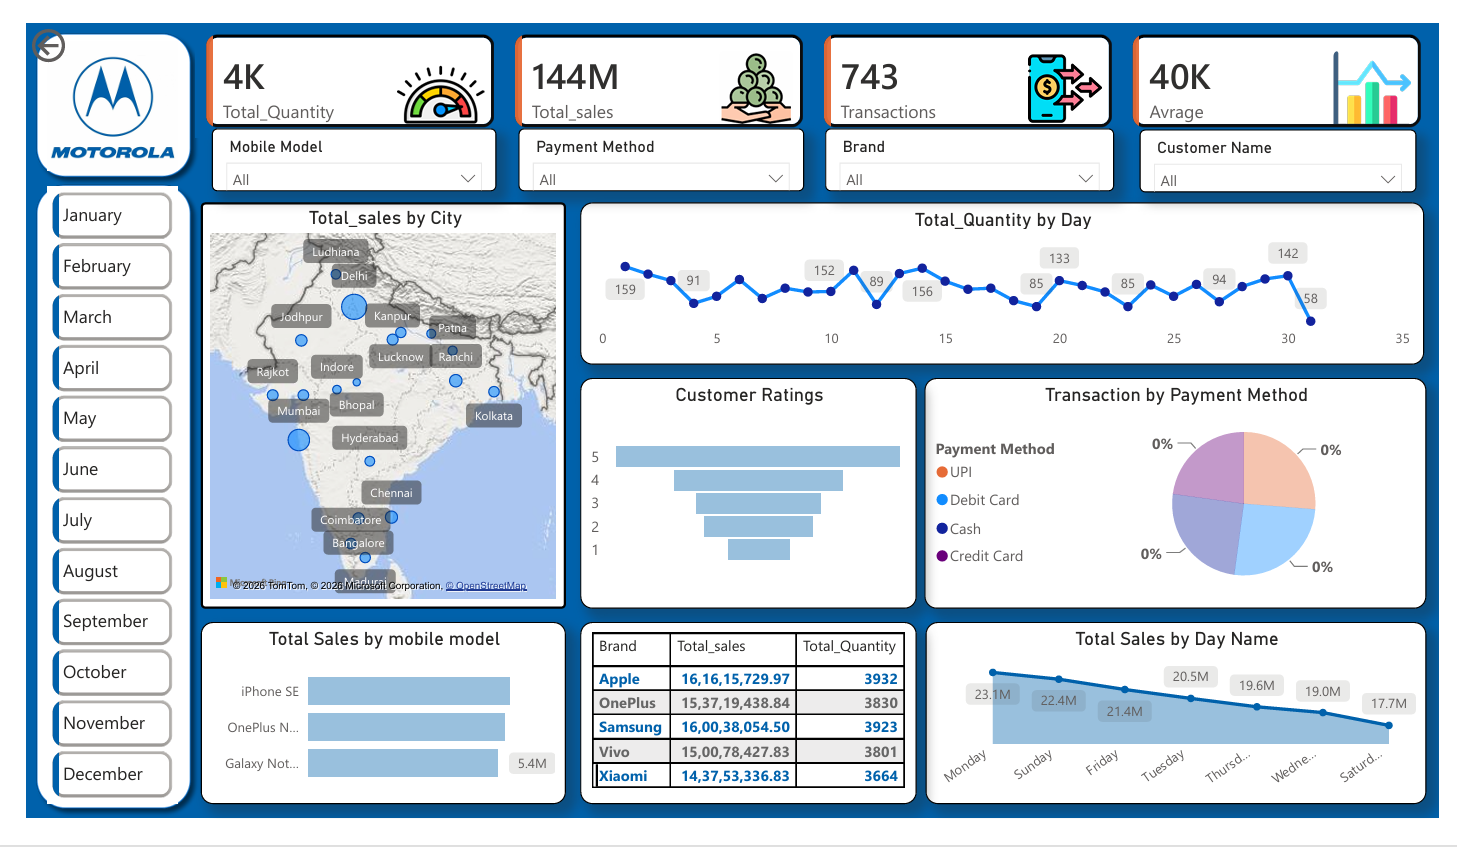

This screenshot's page, from the dashboard's own definition file:
{"tool":"powerbi","page":{"name":"Page 1","canvas":[1280,720],"ordinal":0},"visuals":[{"type":"shape","box":[0,0,157.8,148.2],"z":0},{"type":"image","box":[18.5,15.7,118.3,116.9],"z":1000},{"type":"shape","box":[0,137.2,157.8,583.2],"z":2000},{"type":"cardVisual","fields":{"Data":["Sales_data.Total_Quantity","Sales_data.Total_sales","Sales_data.Transactions","Sales_data.Avrage"]},"box":[148.2,0,1131.8,124],"z":3000},{"type":"map","fields":{"Category":["Sales_data.City"],"Size":["Sales_data.Total_sales"]},"box":[158.2,162.5,330.7,367.8],"z":4000},{"type":"lineChart","fields":{"Y":["Sales_data.Total_Quantity"],"Category":["Sales_data.Date.Variation.Date Hierarchy.Month","Sales_data.Date.Variation.Date Hierarchy.Day"]},"box":[501.7,162.5,765.4,146.8],"z":5000},{"type":"advancedSlicerVisual","fields":{"Values":["Sales_data.Date.Variation.Date Hierarchy.Month"]},"box":[18.5,148.2,118.3,558.8],"z":6000},{"type":"barChart","title":"Total Sales by mobile model","fields":{"Category":["Sales_data.Mobile Model"],"Y":["Sales_data.Total_sales"]},"box":[158.2,541.6,330.7,165.3],"z":7000},{"type":"pieChart","title":"Transaction by Payment Method","fields":{"Category":["Sales_data.Payment Method"],"Y":["Sales_data.Transactions"]},"box":[813.9,320.7,454.7,209.5],"z":8000},{"type":"funnel","title":"Customer Ratings","fields":{"Category":["Sales_data.Customer Ratings"],"Y":["CountNonNull(Sales_data.Customer Ratings)"]},"box":[501.7,320.7,305,209.5],"z":9000},{"type":"areaChart","title":"Total Sales by Day Name","fields":{"Y":["Sales_data.Total_sales"],"Category":["Sales_data.Day Name"]},"box":[815.3,541.6,453.3,165.3],"z":10000},{"type":"tableEx","fields":{"Values":["Sales_data.Brand","Sales_data.Total_sales","Sales_data.Total_Quantity"]},"box":[502,542,305,165],"z":11000},{"type":"actionButton","box":[0,0,100,40],"z":12000},{"type":"slicer","fields":{"Values":["Sales_data.Mobile Model"]},"box":[167.7,95.3,258.2,56.7],"z":13000},{"type":"slicer","fields":{"Values":["Sales_data.Payment Method"]},"box":[446.4,95.3,258.2,56.7],"z":14000},{"type":"slicer","fields":{"Values":["Sales_data.Brand"]},"box":[723.9,95.3,261.8,56.7],"z":15000},{"type":"slicer","fields":{"Values":["Sales_data.Customer Name"]},"box":[1009.2,95.5,250.9,57],"z":16000}]}

Visuals, with their boxes in screenshot pixels (x1, y1, x2, y2):
shape: (left=11, top=19, right=189, bottom=185)
image: (left=32, top=37, right=165, bottom=168)
shape: (left=11, top=173, right=189, bottom=828)
cardVisual - Sales_data.Total_Quantity x Sales_data.Total_sales: (left=178, top=19, right=1448, bottom=158)
map - Sales_data.City x Sales_data.Total_sales: (left=189, top=201, right=560, bottom=614)
lineChart - Sales_data.Total_Quantity x Sales_data.Date.Variation.Date Hierarchy.Month: (left=575, top=201, right=1434, bottom=366)
advancedSlicerVisual - Sales_data.Date.Variation.Date Hierarchy.Month: (left=32, top=185, right=165, bottom=813)
"Total Sales by mobile model" barChart: (left=189, top=627, right=560, bottom=813)
"Transaction by Payment Method" pieChart: (left=925, top=379, right=1435, bottom=614)
"Customer Ratings" funnel: (left=575, top=379, right=917, bottom=614)
"Total Sales by Day Name" areaChart: (left=927, top=627, right=1435, bottom=813)
tableEx - Sales_data.Brand x Sales_data.Total_sales: (left=575, top=627, right=917, bottom=813)
actionButton: (left=11, top=19, right=124, bottom=64)
slicer - Sales_data.Mobile Model: (left=200, top=126, right=489, bottom=190)
slicer - Sales_data.Payment Method: (left=512, top=126, right=802, bottom=190)
slicer - Sales_data.Brand: (left=824, top=126, right=1118, bottom=190)
slicer - Sales_data.Customer Name: (left=1144, top=126, right=1426, bottom=190)
